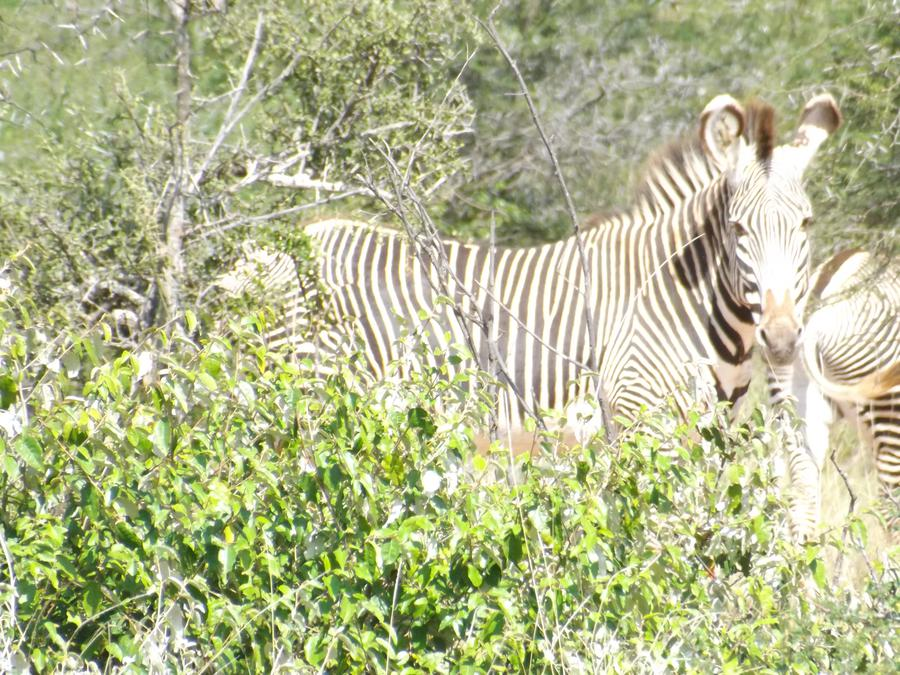zebra_grevys: (293, 180, 706, 433)
